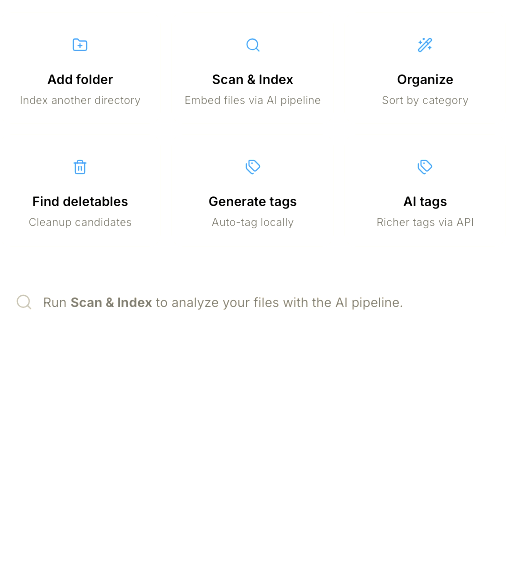
it: ScanView enhanced progress & debug panel › shows last poll time in the debug panel
This screenshot has width=506, height=571.
Click the button "Scan & Index Embed files via AI pipeline" at {"x": 253, "y": 68}, box [172,12,334,124]
Wait 1100 ms
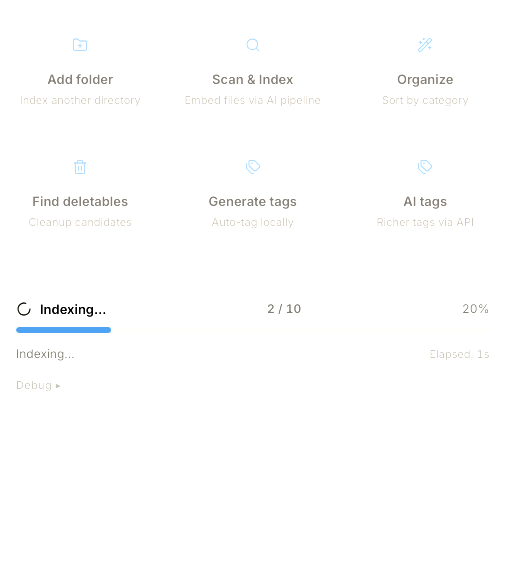
Click the text "Debug ▸" at {"x": 39, "y": 385}, box [16,378,61,392]
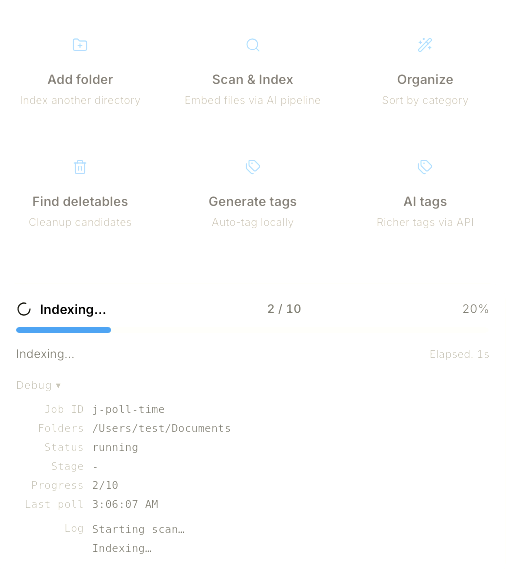
Check: the text "Last poll" is shown, box [16,496,84,513]
